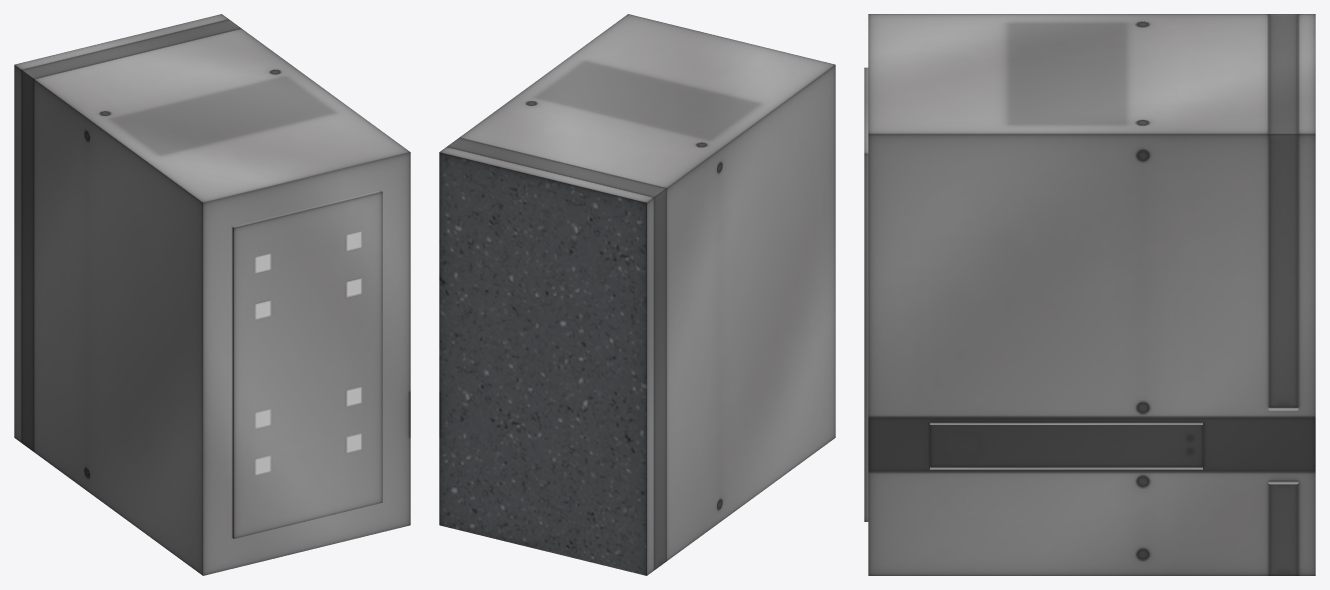
The model's file is aws_robomaker_hospital_elevator_01_car_low.dae.
The picture shows the model from 3 angles, left to right: view 1: azimuth 30°, elevation 25°; view 2: azimuth 150°, elevation 25°; view 3: azimuth 270°, elevation 25°; orthographic projection. The views are drawn at different scales.
Visible parts, largest first — view 1: aws_robomaker_hospital_elevator_01_car_low; view 2: aws_robomaker_hospital_elevator_01_car_low; view 3: aws_robomaker_hospital_elevator_01_car_low.
Boxes of the visible parts, x1,y1,x2,y2 form: aws_robomaker_hospital_elevator_01_car_low: [14, 14, 410, 575]; aws_robomaker_hospital_elevator_01_car_low: [439, 14, 835, 575]; aws_robomaker_hospital_elevator_01_car_low: [864, 14, 1315, 575].
Bounding box in the file's own units: 149 × 250 × 231.
1 material, 1 textured.
